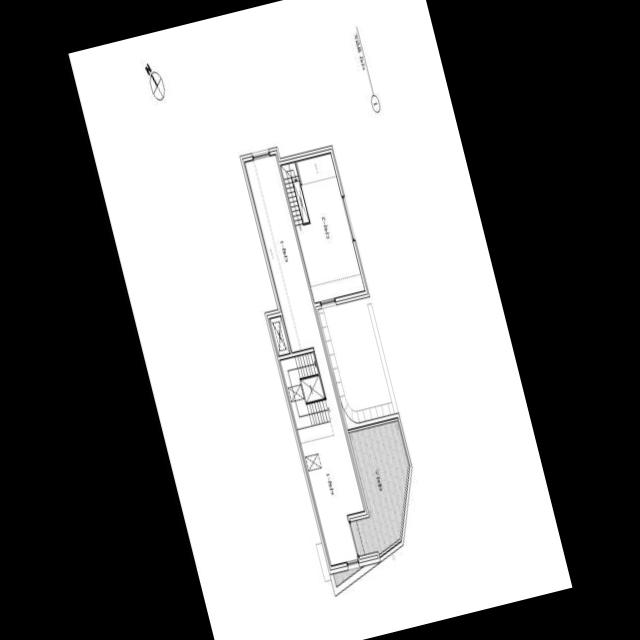background: (68, 0, 572, 640)
space_balconi: (348, 420, 408, 555), (333, 565, 363, 586)
space_other: (244, 154, 364, 564), (295, 152, 365, 302), (269, 315, 289, 355), (300, 374, 324, 402), (293, 180, 309, 222)
space_staircase: (280, 351, 330, 428), (280, 161, 302, 224)
